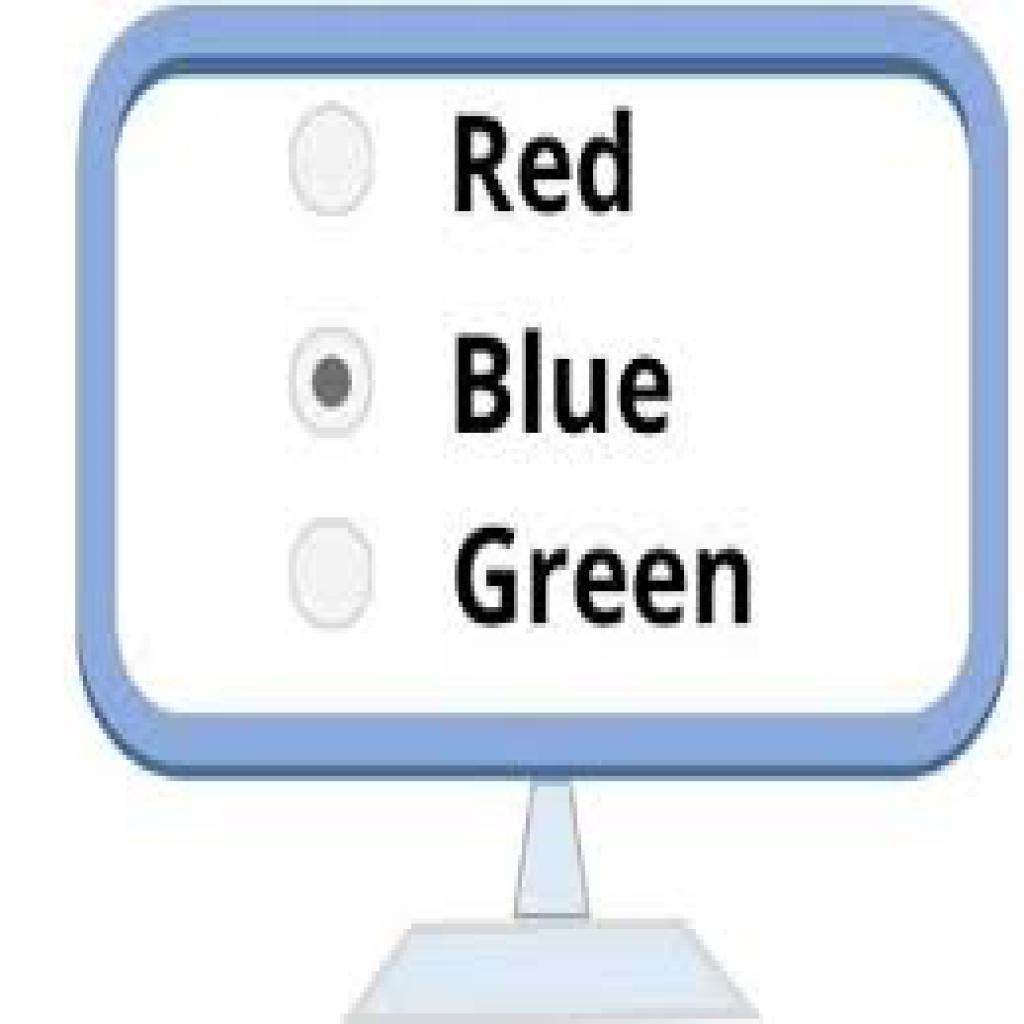radio: (285, 507, 386, 643), (282, 95, 383, 224), (285, 327, 375, 443)
